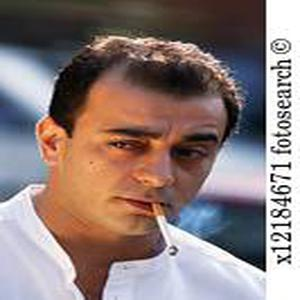cigarette: (151, 201, 179, 257)
